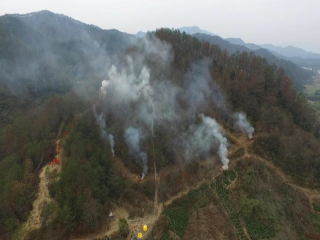smoke: (80, 37, 255, 177)
